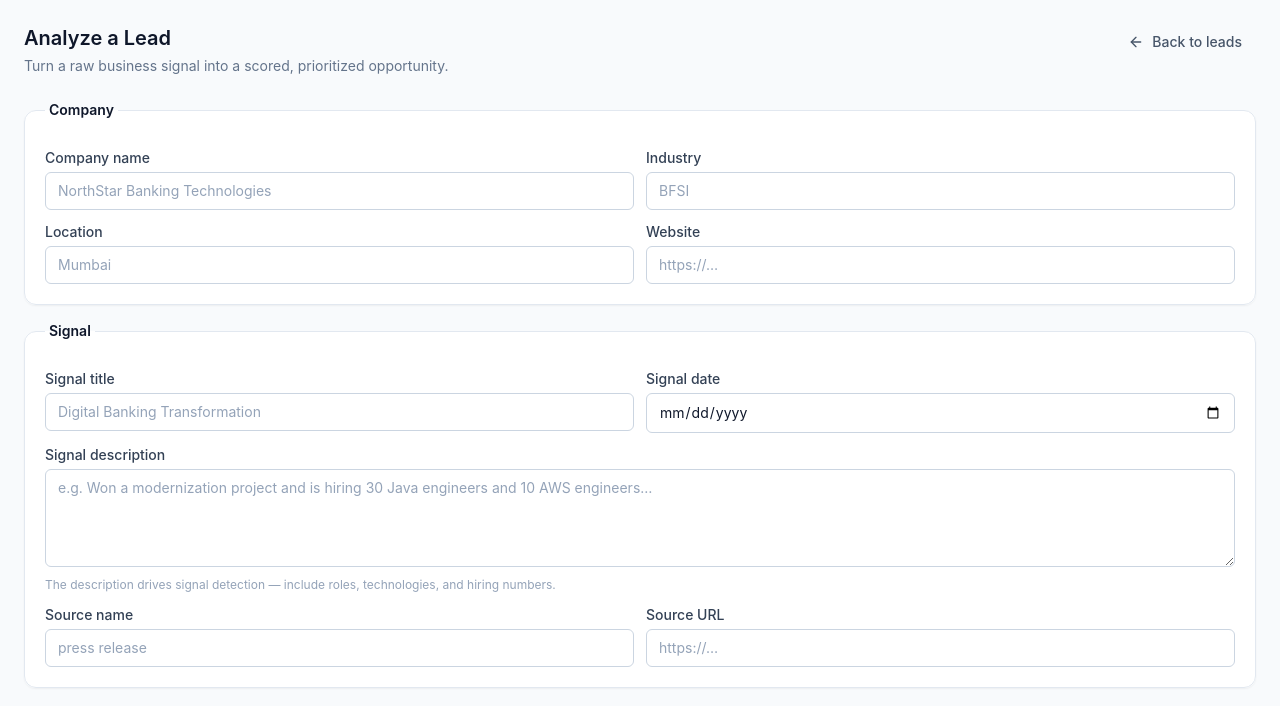
Test: AnalyzeLeadPage › shows an error state on failure
In the field labelled "Company name": (340, 191) left=45, top=172, right=634, bottom=210, type "Acme Corp"
(page scrolled)
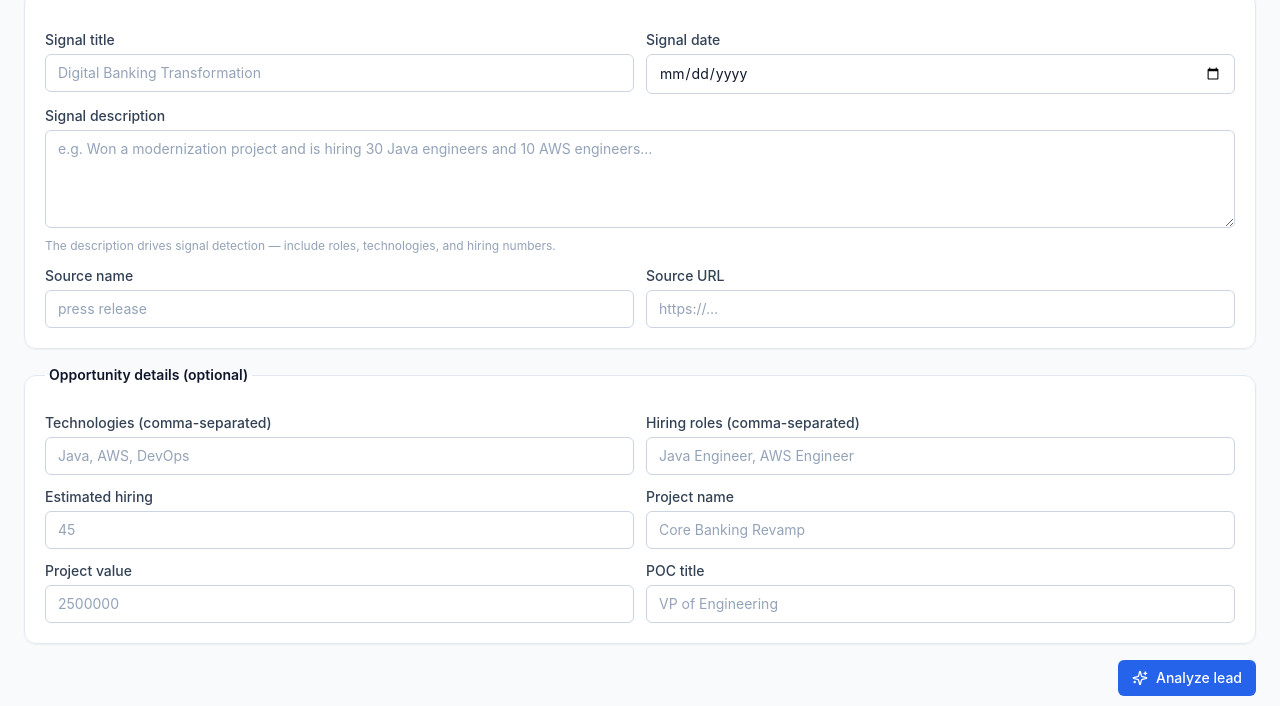
Click the button "Analyze lead": (1187, 678) left=1118, top=660, right=1256, bottom=696
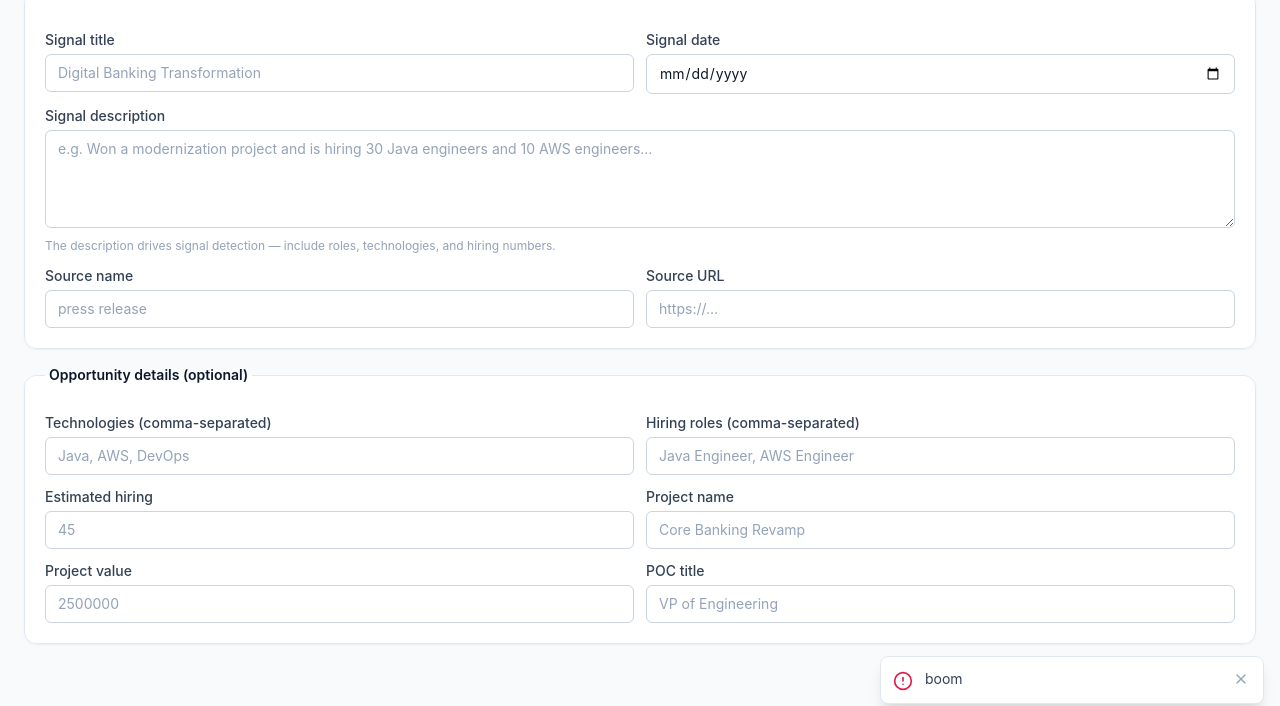
Expected: the text "boom" is shown, left=925, top=670, right=963, bottom=687
